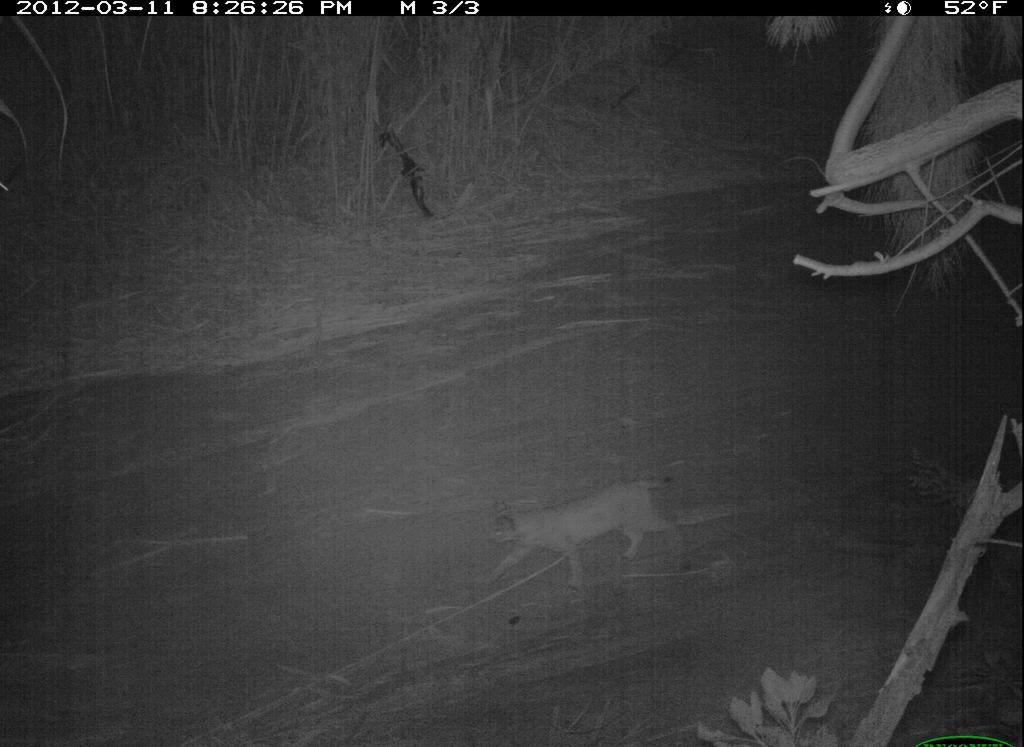bobcat: (470, 466, 706, 612)
